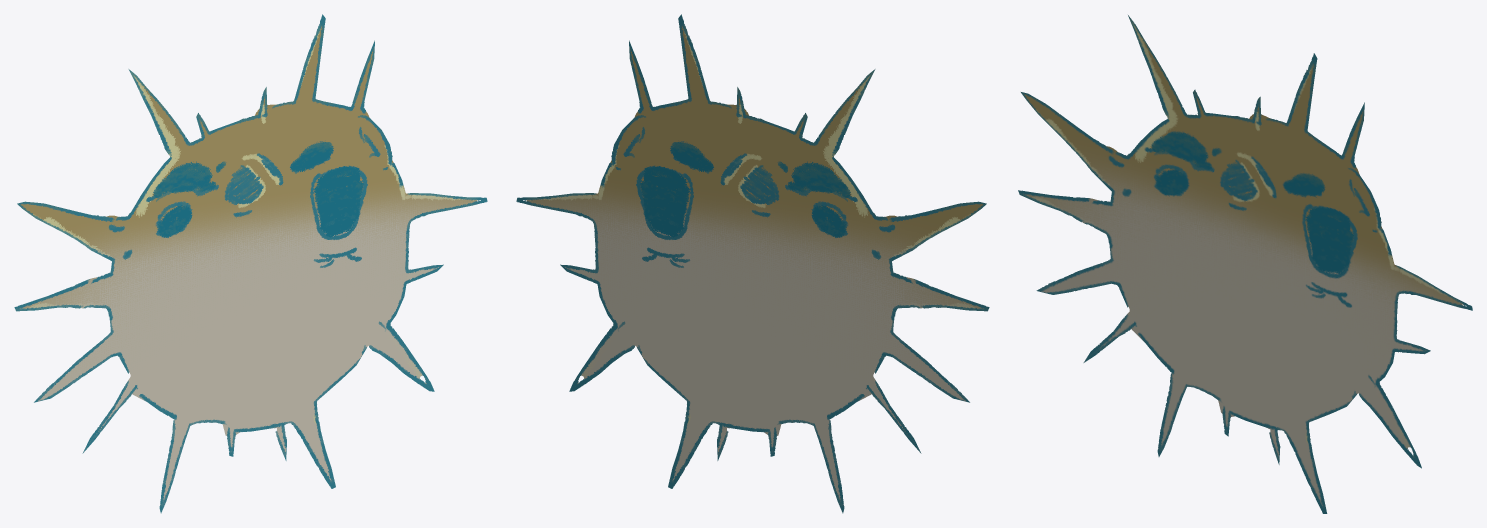
Rendered from puffer_2.fbx.
3 renders of one model, left to right at view 1: azimuth 30°, elevation 25°; view 2: azimuth 150°, elevation 25°; view 3: azimuth 330°, elevation 25°, orthographic. The views are drawn at different scales.
Parts seen in each view (by area): view 1: mask33; view 2: mask33; view 3: mask33.
Part boxes in pixels (x1,y1,x2,y2): mask33: (14, 14, 487, 513); mask33: (516, 14, 989, 513); mask33: (1018, 15, 1472, 513).
Size of the model in its own units: 9.45 by 9.11 by 1.53e-07.
Materials: 1 (1 with a texture image).
